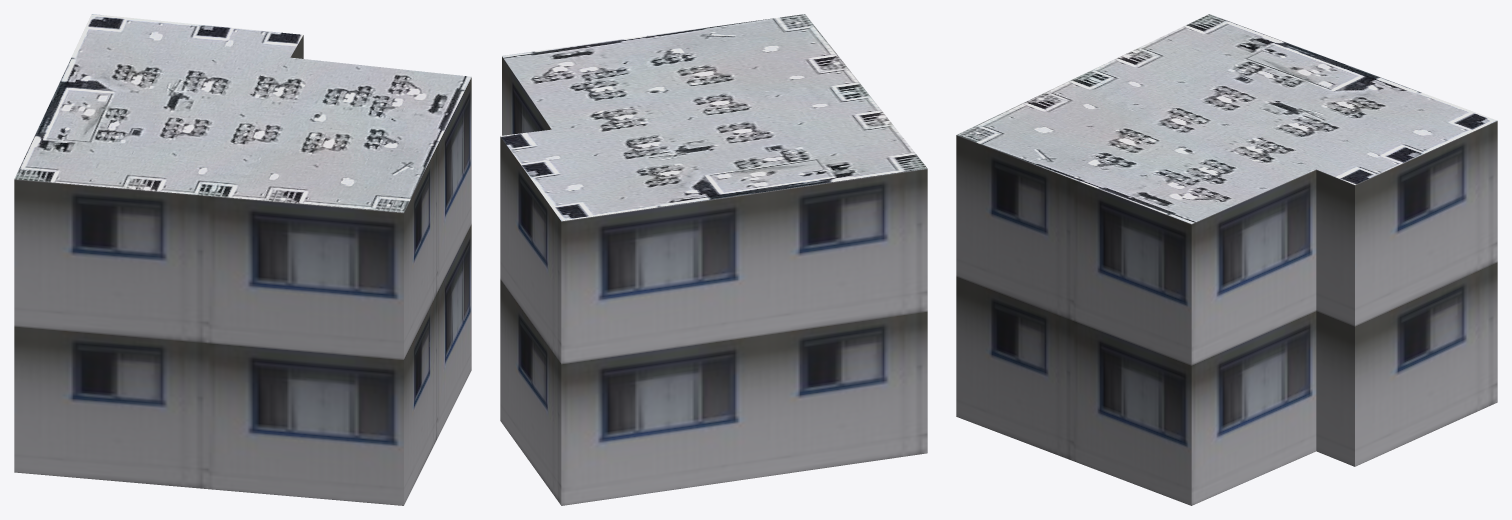
File: ResTex__1735.fbx
3 renders of one model, left to right at view 1: azimuth 30°, elevation 25°; view 2: azimuth 150°, elevation 25°; view 3: azimuth 270°, elevation 25°, orthographic. The views are drawn at different scales.
Visible parts, largest first — view 1: CityEngineMaterial_9_m, CityEngineMaterial_4_m; view 2: CityEngineMaterial_9_m, CityEngineMaterial_4_m; view 3: CityEngineMaterial_9_m, CityEngineMaterial_4_m.
Part boxes in pixels (left/top/right/bottom): CityEngineMaterial_9_m: left=14, top=35, right=471, bottom=505; CityEngineMaterial_4_m: left=14, top=14, right=471, bottom=212; CityEngineMaterial_9_m: left=500, top=56, right=927, bottom=505; CityEngineMaterial_4_m: left=500, top=14, right=927, bottom=221; CityEngineMaterial_9_m: left=956, top=121, right=1497, bottom=505; CityEngineMaterial_4_m: left=957, top=14, right=1497, bottom=223.
Size of the model in its own units: 9.6 by 6 by 10.45.
2 materials, 2 textured.
